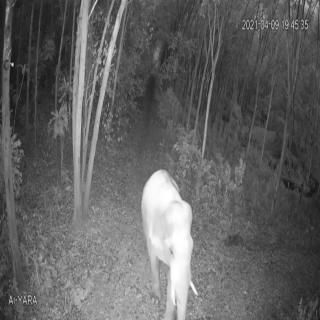Elephant: (138, 162, 208, 320)
